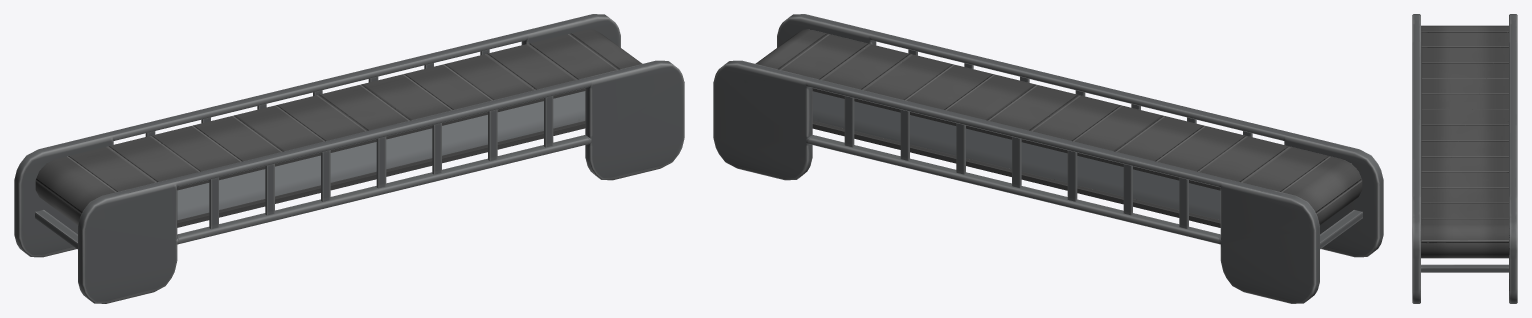
File: beltkonbea.fbx
The picture shows the model from 3 angles, left to right: view 1: azimuth 30°, elevation 25°; view 2: azimuth 150°, elevation 25°; view 3: azimuth 270°, elevation 25°; orthographic projection. The views are drawn at different scales.
Visible parts, largest first — view 1: berutokonnbea_Mesh_001, berutokonnbea_Mesh_022, berutokonnbea_Mesh_025, berutokonnbea_Mesh_002, berutokonnbea_Mesh_018, berutokonnbea_Mesh_006, berutokonnbea_Mesh_005, berutokonnbea_Mesh_008, berutokonnbea_Mesh_007, berutokonnbea_Mesh_017, berutokonnbea_Mesh_004, berutokonnbea_Mesh_009; view 2: berutokonnbea_Mesh_001, berutokonnbea_Mesh_025, berutokonnbea_Mesh_022, berutokonnbea_Mesh_003, berutokonnbea_Mesh_018, berutokonnbea_Mesh_014, berutokonnbea_Mesh_010, berutokonnbea_Mesh_011, berutokonnbea_Mesh_012, berutokonnbea_Mesh_015, berutokonnbea_Mesh_016, berutokonnbea_Mesh_013; view 3: berutokonnbea_Mesh_001, berutokonnbea_Mesh_022, berutokonnbea_Mesh_025, berutokonnbea_Mesh_019.
Part boxes in pixels (left/top/right/bottom): berutokonnbea_Mesh_001: left=35, top=29, right=642, bottom=227; berutokonnbea_Mesh_022: left=78, top=60, right=684, bottom=303; berutokonnbea_Mesh_025: left=14, top=14, right=620, bottom=257; berutokonnbea_Mesh_002: left=177, top=91, right=585, bottom=219; berutokonnbea_Mesh_018: left=35, top=210, right=77, bottom=249; berutokonnbea_Mesh_006: left=376, top=137, right=386, bottom=188; berutokonnbea_Mesh_005: left=321, top=150, right=330, bottom=201; berutokonnbea_Mesh_008: left=488, top=109, right=497, bottom=160; berutokonnbea_Mesh_007: left=432, top=123, right=441, bottom=174; berutokonnbea_Mesh_017: left=265, top=164, right=274, bottom=215; berutokonnbea_Mesh_004: left=209, top=177, right=218, bottom=228; berutokonnbea_Mesh_009: left=544, top=96, right=553, bottom=147; berutokonnbea_Mesh_001: left=755, top=29, right=1362, bottom=227; berutokonnbea_Mesh_025: left=713, top=60, right=1319, bottom=303; berutokonnbea_Mesh_022: left=777, top=14, right=1383, bottom=257; berutokonnbea_Mesh_003: left=812, top=91, right=1220, bottom=220; berutokonnbea_Mesh_018: left=1320, top=210, right=1362, bottom=249; berutokonnbea_Mesh_014: left=1067, top=150, right=1077, bottom=201; berutokonnbea_Mesh_010: left=844, top=96, right=854, bottom=147; berutokonnbea_Mesh_011: left=900, top=109, right=909, bottom=160; berutokonnbea_Mesh_012: left=956, top=123, right=965, bottom=174; berutokonnbea_Mesh_015: left=1123, top=164, right=1132, bottom=215; berutokonnbea_Mesh_016: left=1179, top=177, right=1188, bottom=228; berutokonnbea_Mesh_013: left=1012, top=137, right=1021, bottom=187; berutokonnbea_Mesh_001: left=1421, top=25, right=1508, bottom=258; berutokonnbea_Mesh_022: left=1412, top=14, right=1420, bottom=303; berutokonnbea_Mesh_025: left=1509, top=14, right=1517, bottom=303; berutokonnbea_Mesh_019: left=1421, top=264, right=1508, bottom=272.
Size of the model in its own units: 600 by 100 by 120.
